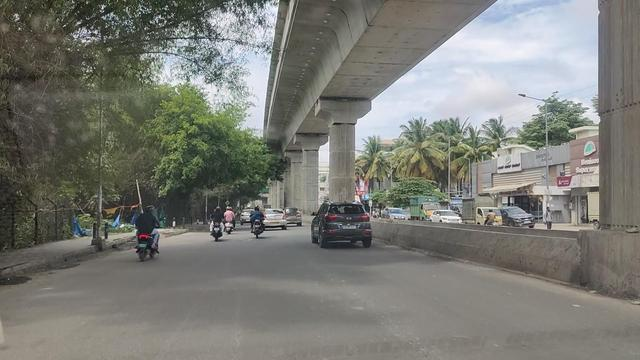LMV: (313, 197, 375, 253), (131, 196, 161, 271), (248, 202, 268, 243), (210, 204, 226, 243)
